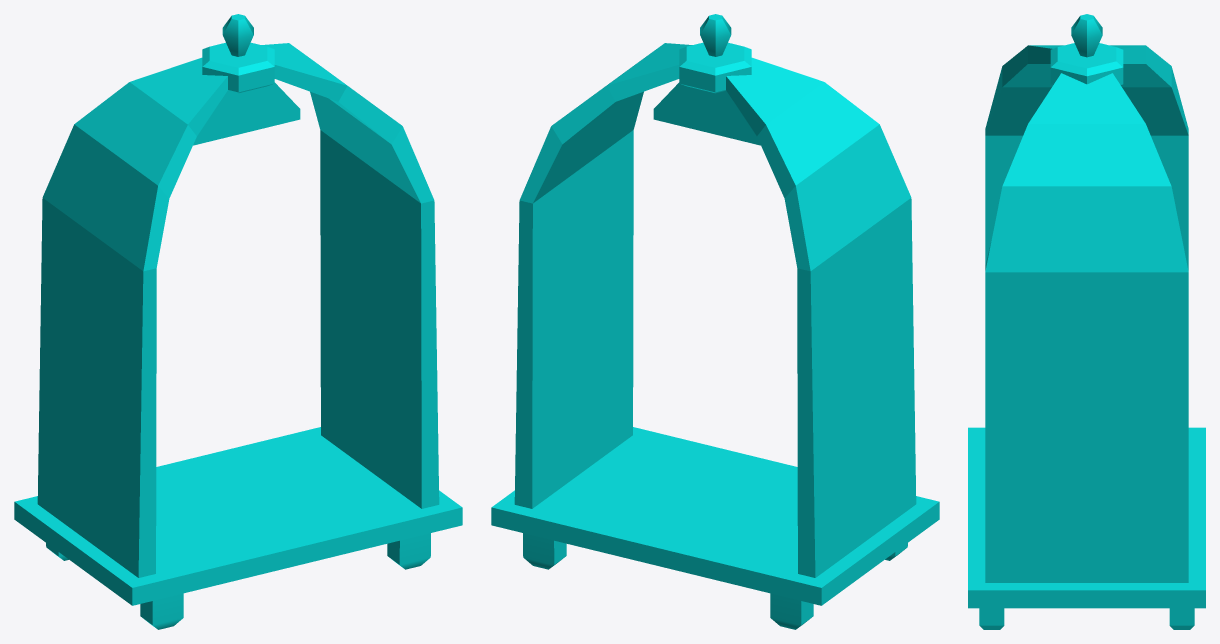
Rendered from SM_Prop_Luggage_Cart_01_Collision.fbx.
The picture shows the model from 3 angles, left to right: view 1: azimuth 30°, elevation 25°; view 2: azimuth 150°, elevation 25°; view 3: azimuth 270°, elevation 25°; orthographic projection.
Visible parts, largest first — view 1: SM_Prop_Luggage_Cart_01_Collision; view 2: SM_Prop_Luggage_Cart_01_Collision; view 3: SM_Prop_Luggage_Cart_01_Collision.
Part boxes in pixels (bbox=[...]): SM_Prop_Luggage_Cart_01_Collision: bbox=[14, 14, 462, 629]; SM_Prop_Luggage_Cart_01_Collision: bbox=[491, 14, 939, 629]; SM_Prop_Luggage_Cart_01_Collision: bbox=[968, 14, 1205, 629].
Size of the model in its own units: 151 by 238 by 93.63.
